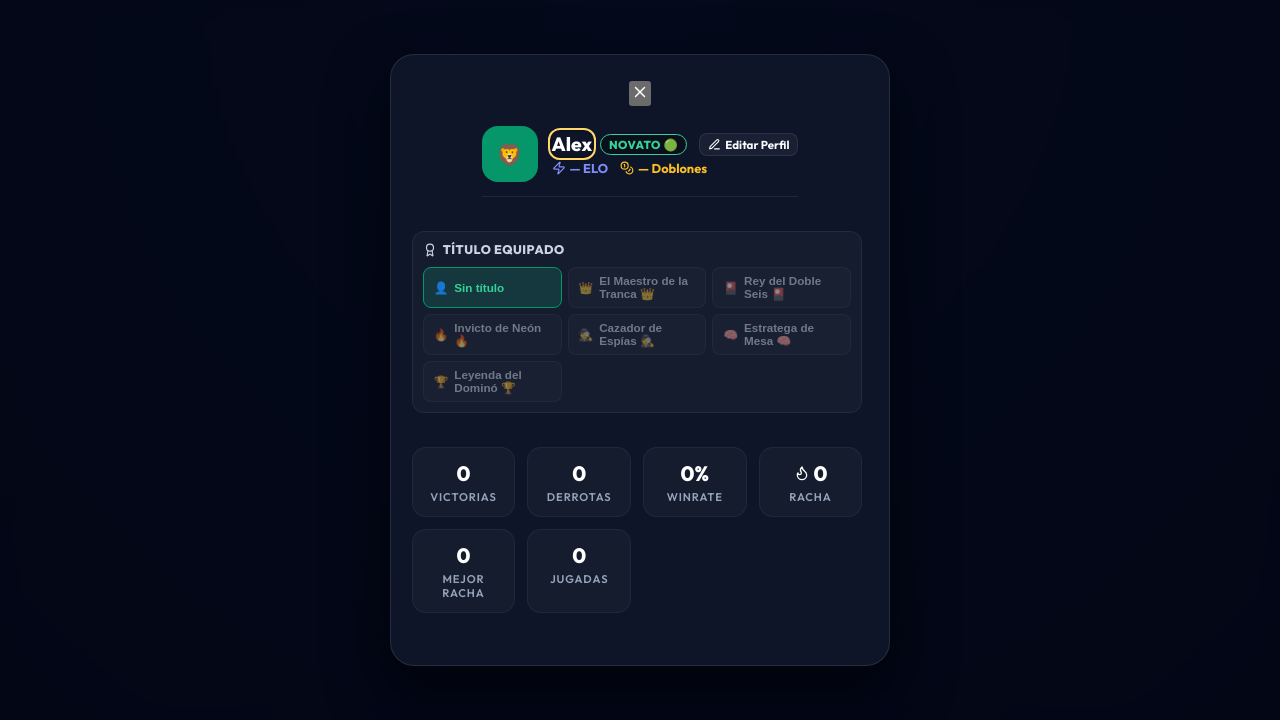
Scenario: Persistencia y Gestión de Perfil › ProfileModal - Edición y Clave de Cuenta › despliega el panel de edición al hacer clic en Editar Perfil
Click the button "Editar Perfil" at [749, 144], box [699, 132, 798, 156]
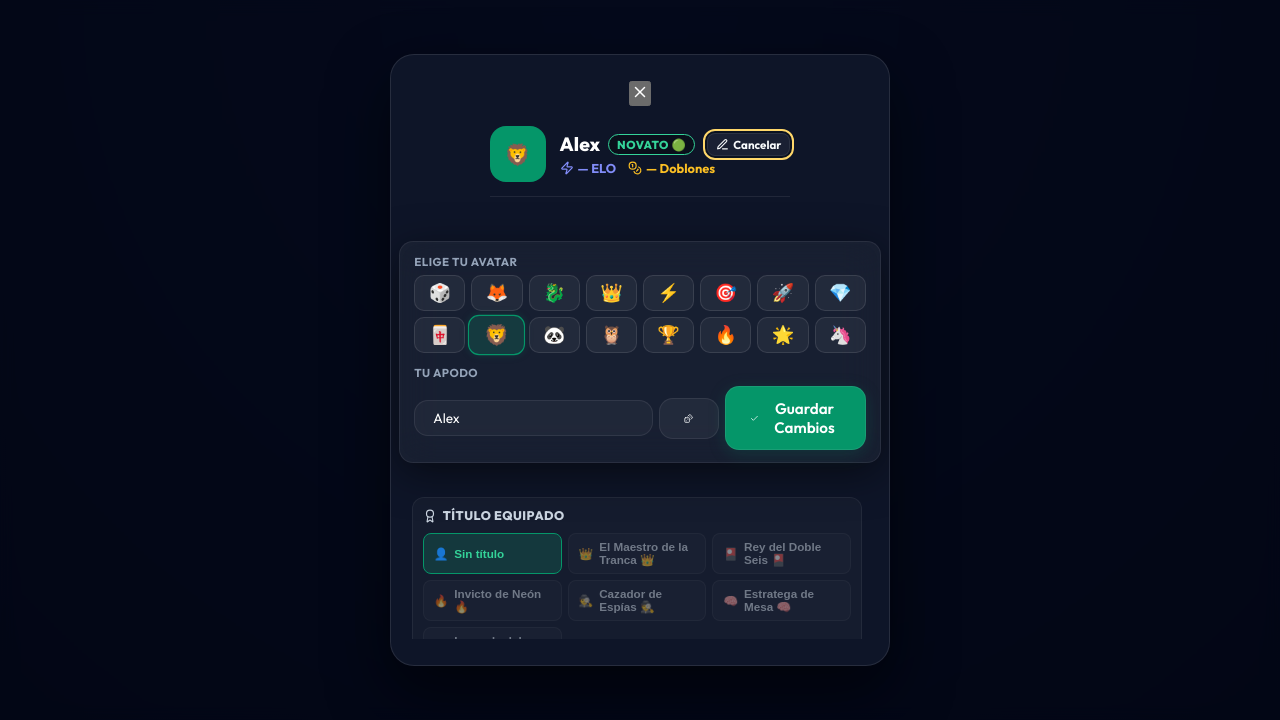
Result: the text "Elige tu Avatar" is shown at [414, 254, 518, 269]
Result: the field showing "Alex" is shown at [414, 400, 653, 436]
Result: the button "Guardar Cambios" is shown at [724, 386, 866, 450]
